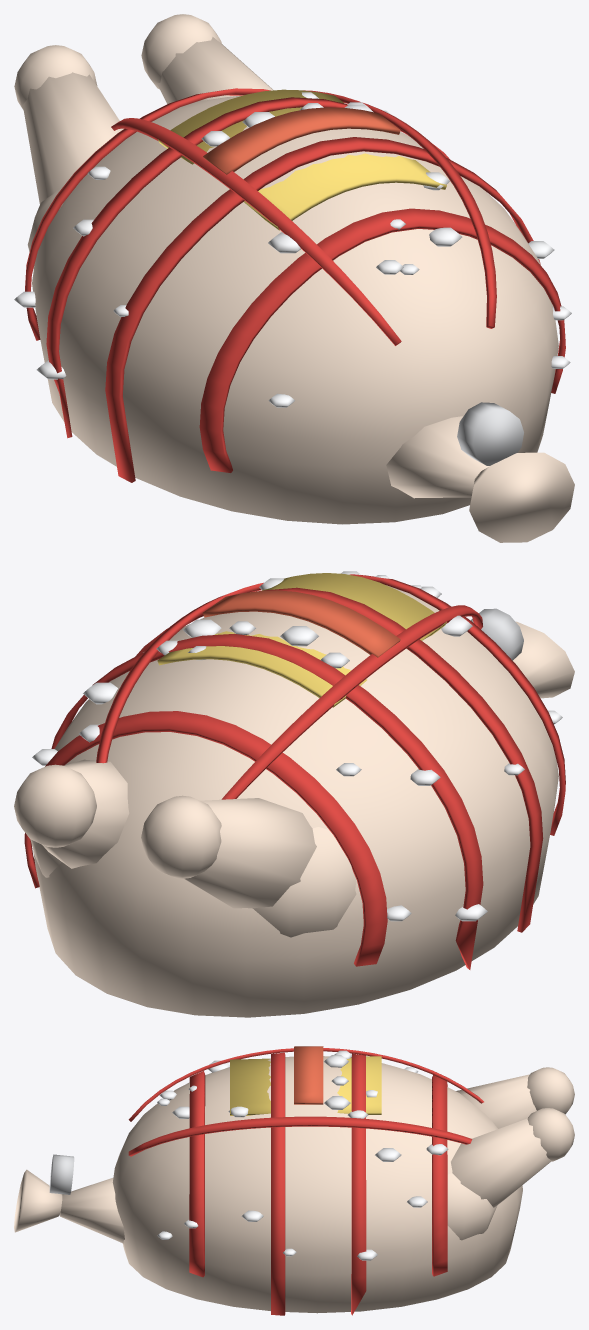
The model's file is frozen-turkey.glb.
The picture shows the model from 3 angles, top to bottom: view 1: azimuth 30°, elevation 25°; view 2: azimuth 150°, elevation 25°; view 3: azimuth 270°, elevation 25°; orthographic projection. The views are drawn at different scales.
Parts seen in each view (by area): view 1: body, netting, drumsticks, wrap, label, frost, label-stripe, clip; view 2: body, netting, drumsticks, label, frost, label-stripe, wrap, clip; view 3: body, netting, drumsticks, wrap, label, frost, label-stripe, clip.
Boxes of the visible parts, box(x1,y1,x2,y2) form: body: box(32, 95, 558, 524); netting: box(25, 88, 565, 482); drumsticks: box(14, 14, 273, 268); wrap: box(386, 416, 574, 542); label: box(157, 89, 446, 230); frost: box(14, 92, 571, 407); label-stripe: box(203, 107, 400, 174); clip: box(457, 402, 523, 465); body: box(33, 586, 558, 1017); netting: box(24, 574, 565, 969); drumsticks: box(14, 759, 356, 937); label: box(157, 573, 446, 707); frost: box(32, 571, 562, 921); label-stripe: box(203, 590, 400, 657); wrap: box(513, 621, 574, 698); clip: box(471, 608, 523, 660); body: box(112, 1056, 522, 1313); netting: box(128, 1048, 483, 1315); drumsticks: box(447, 1067, 574, 1240); wrap: box(14, 1169, 124, 1243); label: box(230, 1056, 381, 1115); frost: box(157, 1050, 448, 1260); label-stripe: box(294, 1046, 323, 1104); clip: box(49, 1154, 74, 1194).
Size of the model in its own units: 0.293 by 0.191 by 0.4909.
